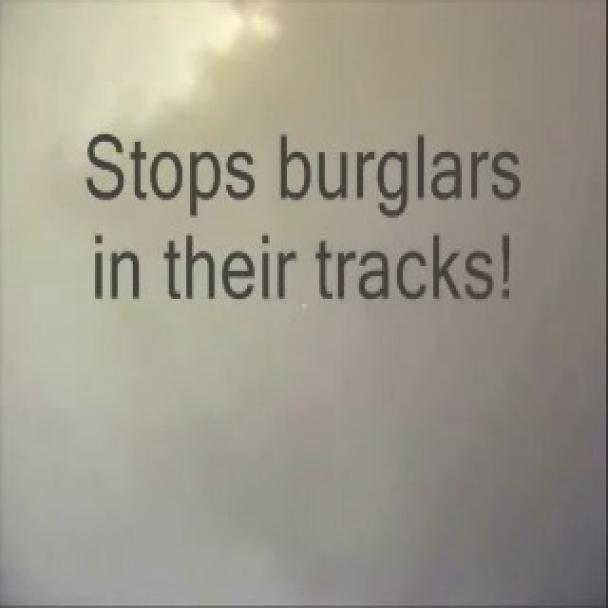smoke: (8, 3, 606, 606)
